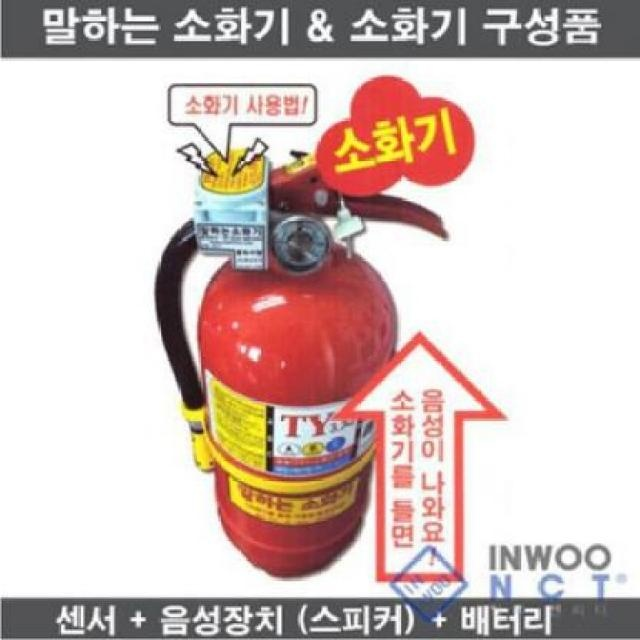fire extinguisher: (152, 148, 451, 580)
